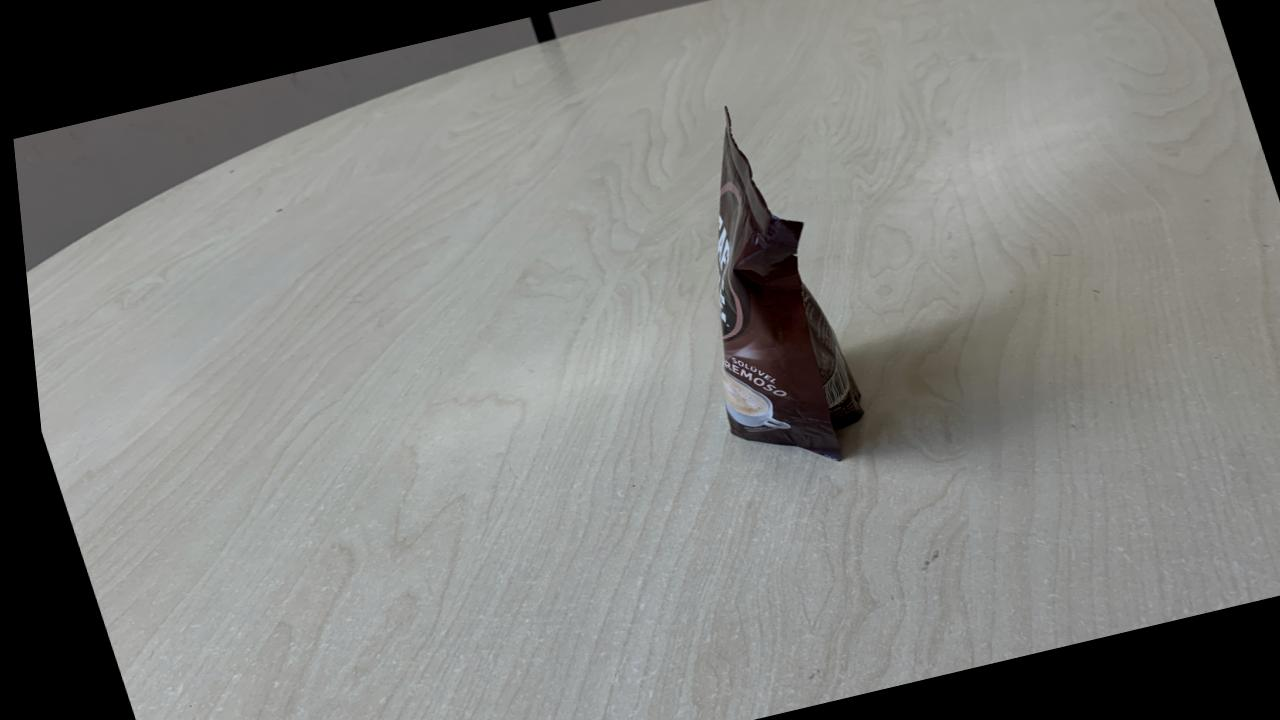Coffee-Pantry_Items: (713, 131, 856, 458)
